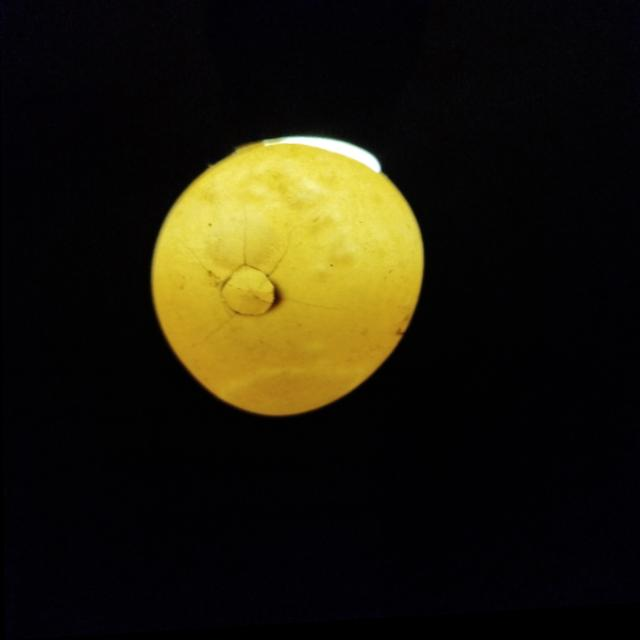Camara de Ar: (220, 374, 369, 421)
Rachadura: (197, 243, 336, 341)
